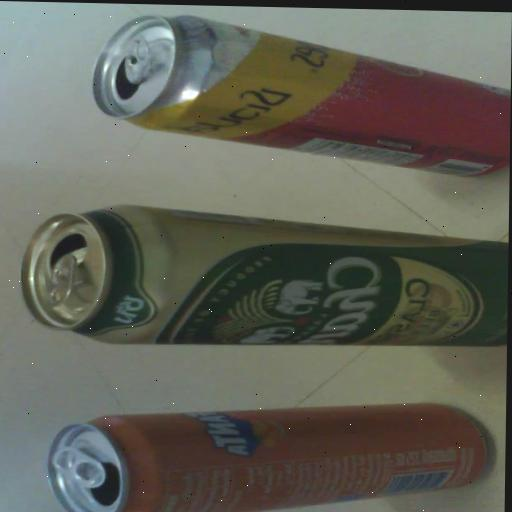canned: (2, 187, 509, 363), (71, 2, 512, 188), (23, 384, 506, 512)
